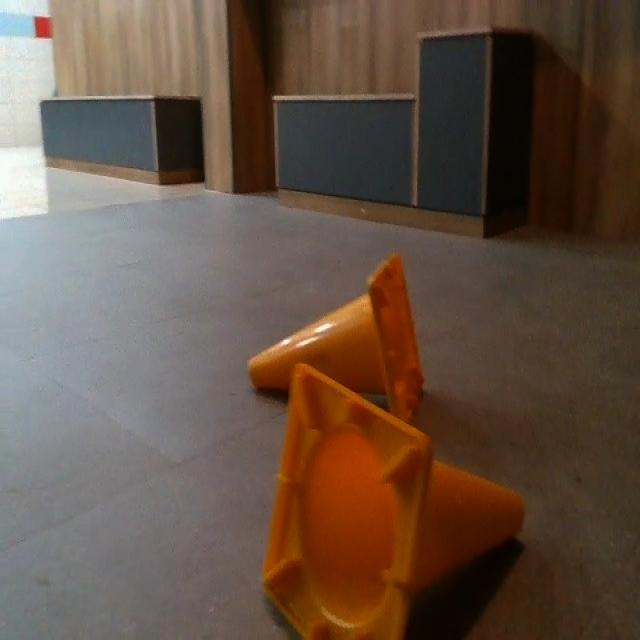cone: (263, 363, 522, 637), (247, 260, 422, 429)
